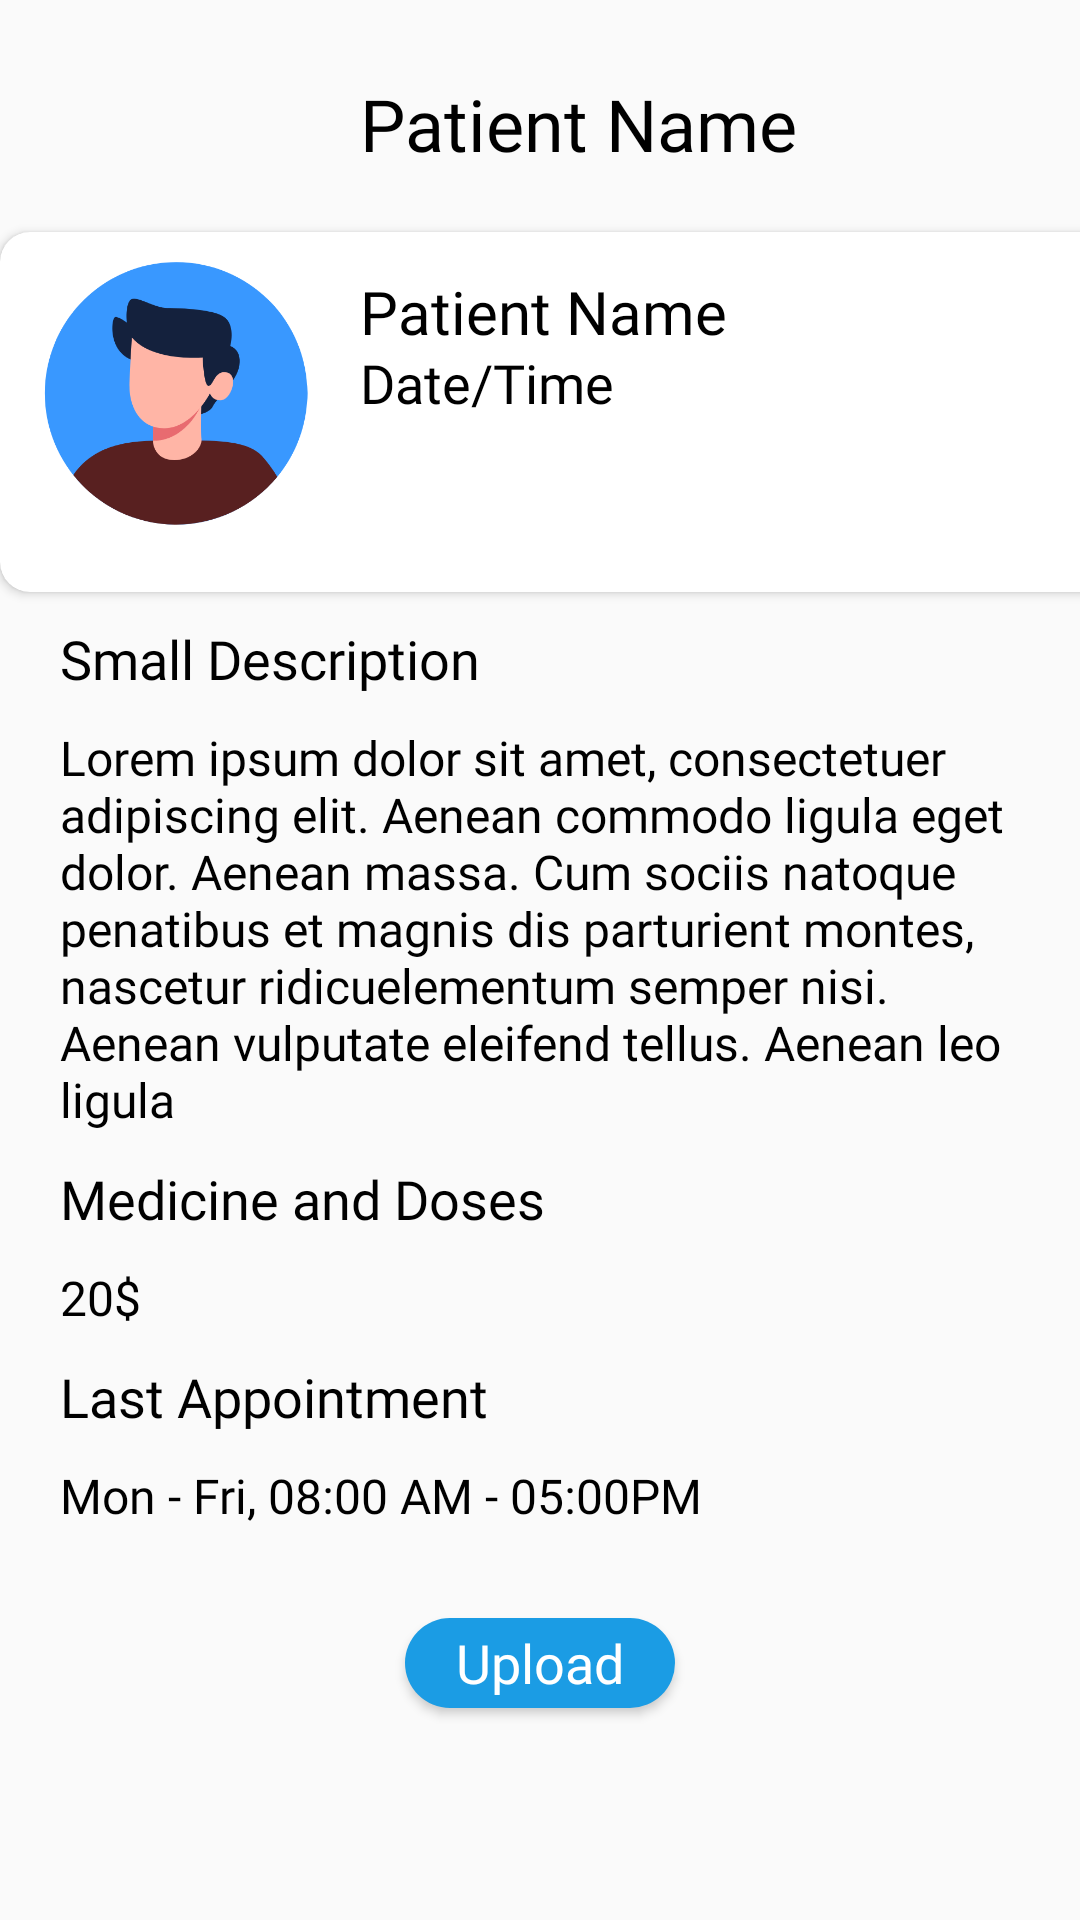

Named icons in this screenshot (1080*1920) and their centers, (x=x, y=y):
person: (x=176, y=393)
